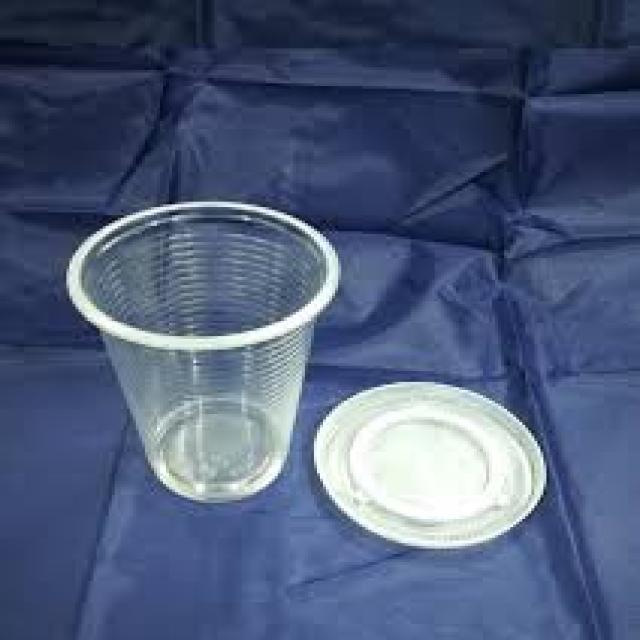cup: (70, 178, 346, 530)
